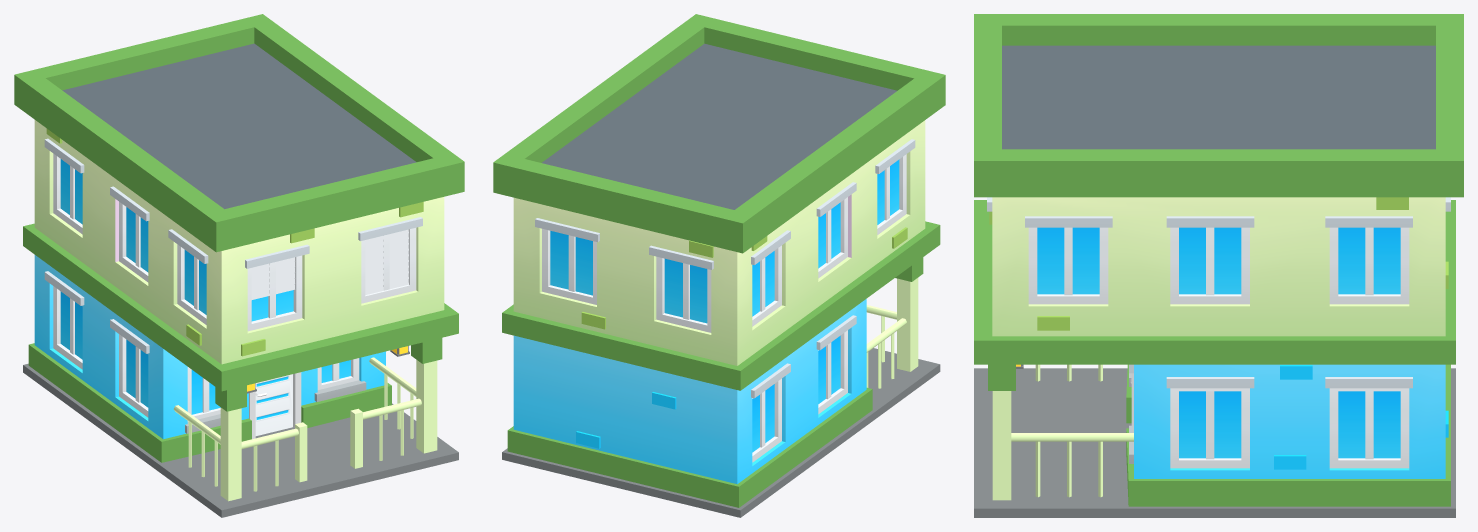
The model's file is city2-building-living-01.glb.
3 views of the same model, side by side, from view 1: azimuth 30°, elevation 25°; view 2: azimuth 150°, elevation 25°; view 3: azimuth 270°, elevation 25° (orthographic). The views are drawn at different scales.
Parts seen in each view (by area): view 1: Building_Living_01; view 2: Building_Living_01; view 3: Building_Living_01.
Boxes of the visible parts, x1,y1,x2,y2 form: Building_Living_01: (14,14,464,517); Building_Living_01: (493,14,945,517); Building_Living_01: (974,14,1463,517).
Bounding box in the file's own units: 6.86 × 7.83 × 9.65.
1 material, 1 textured.
